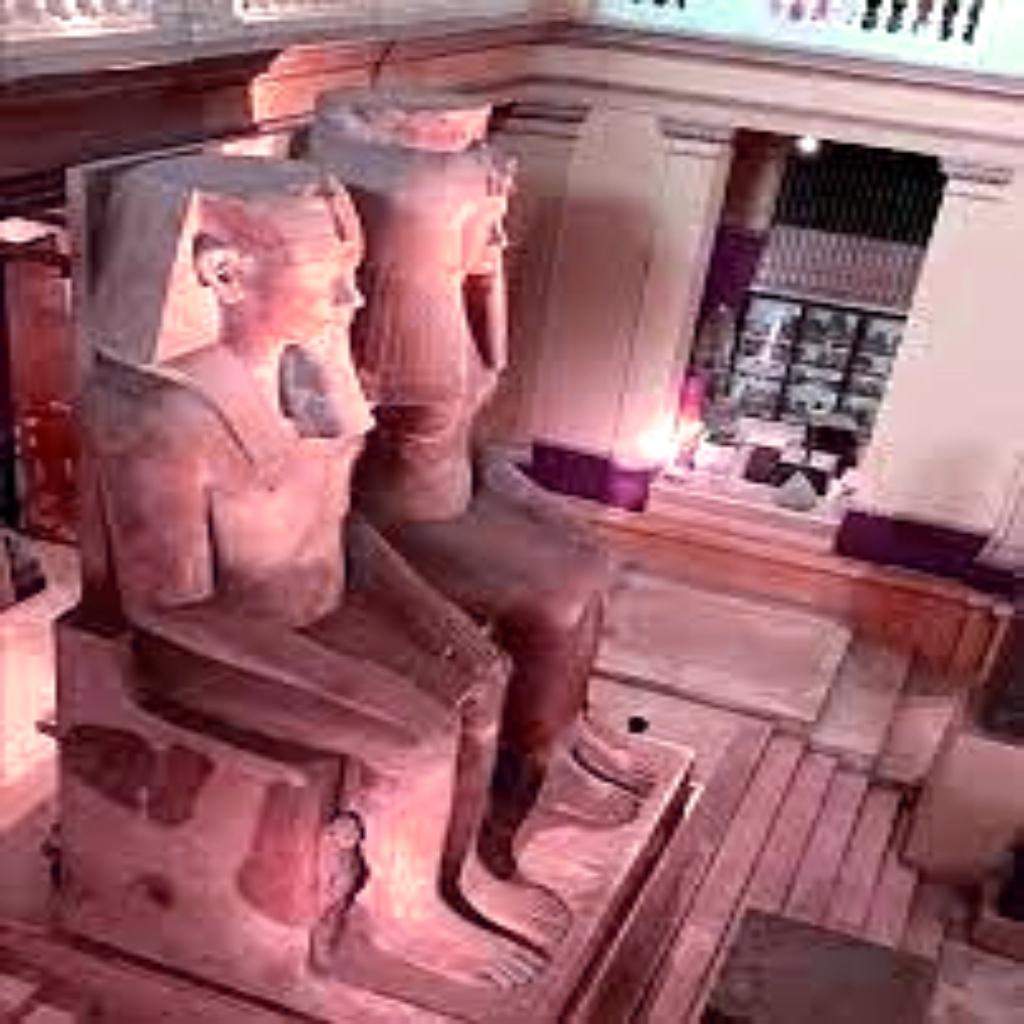Amenhotep III and Tiye: (71, 76, 666, 992)
